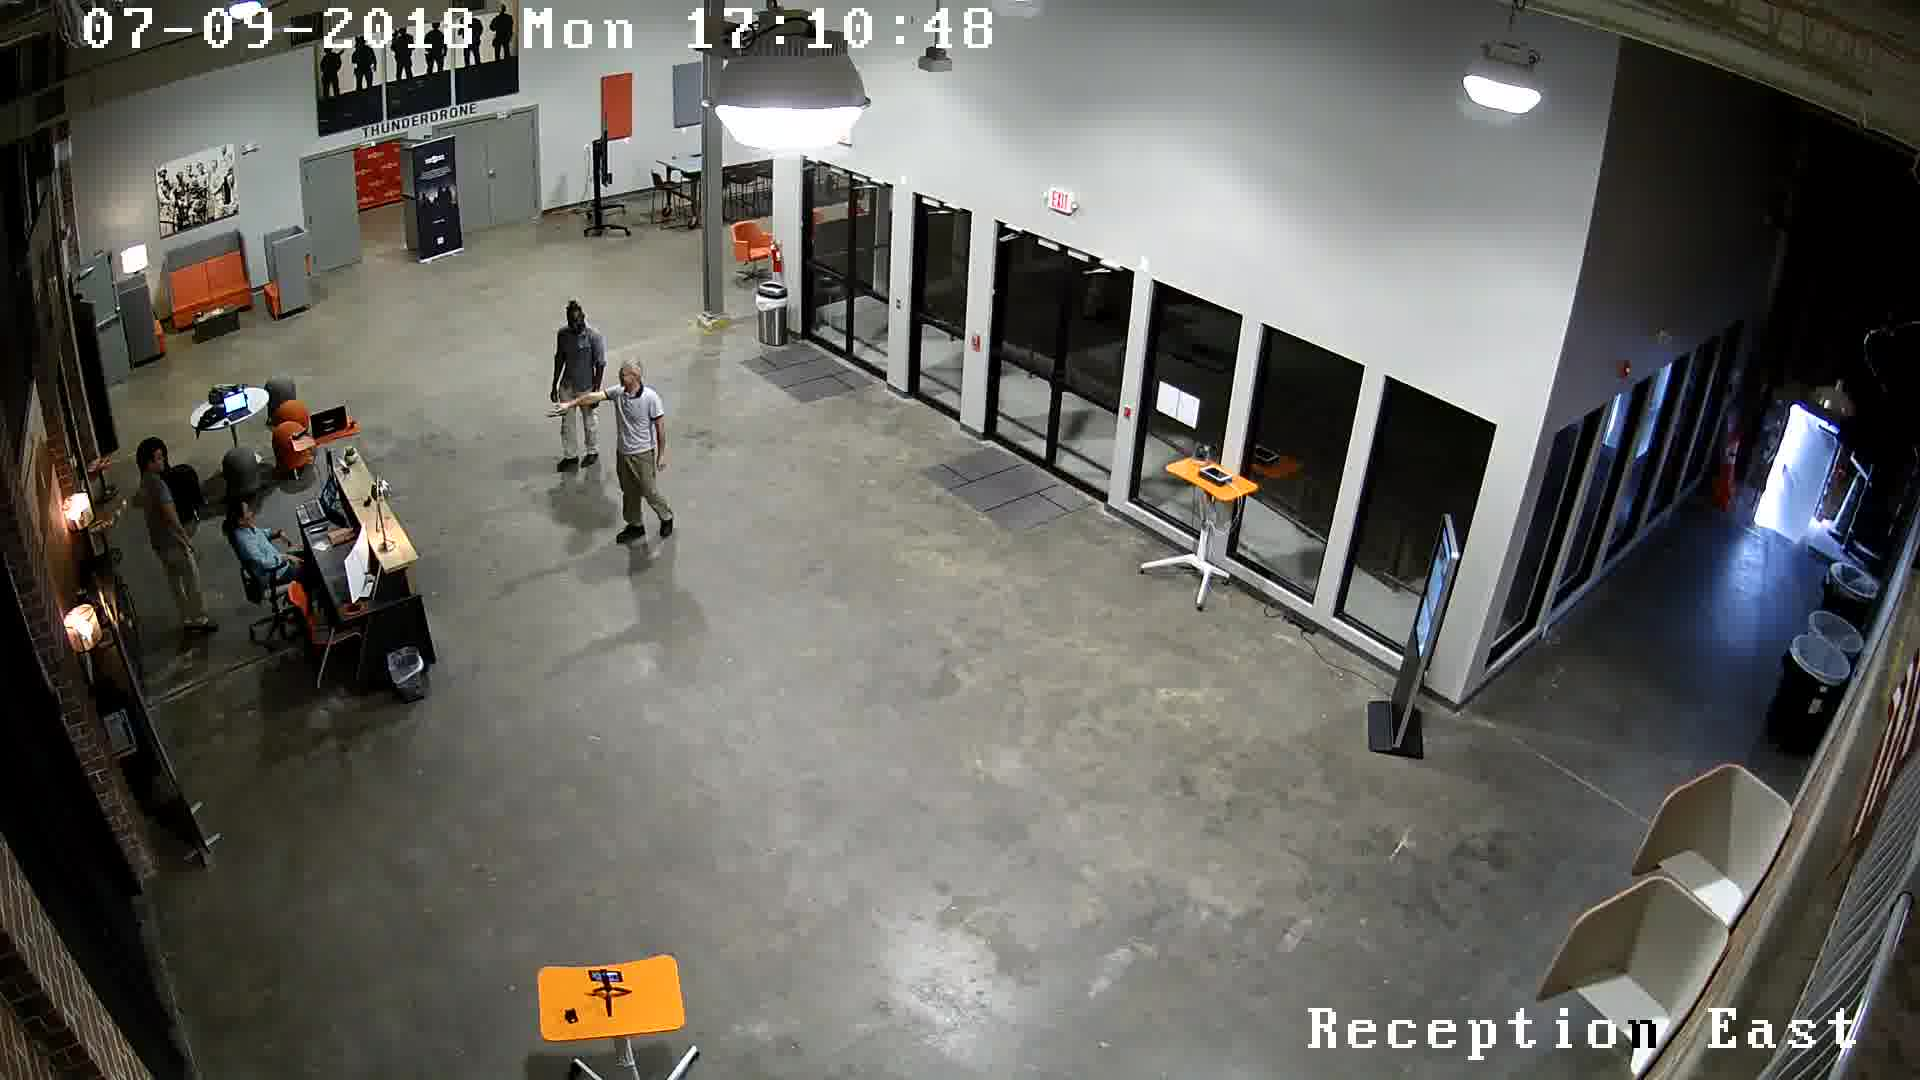pistol: (529, 392, 584, 436)
